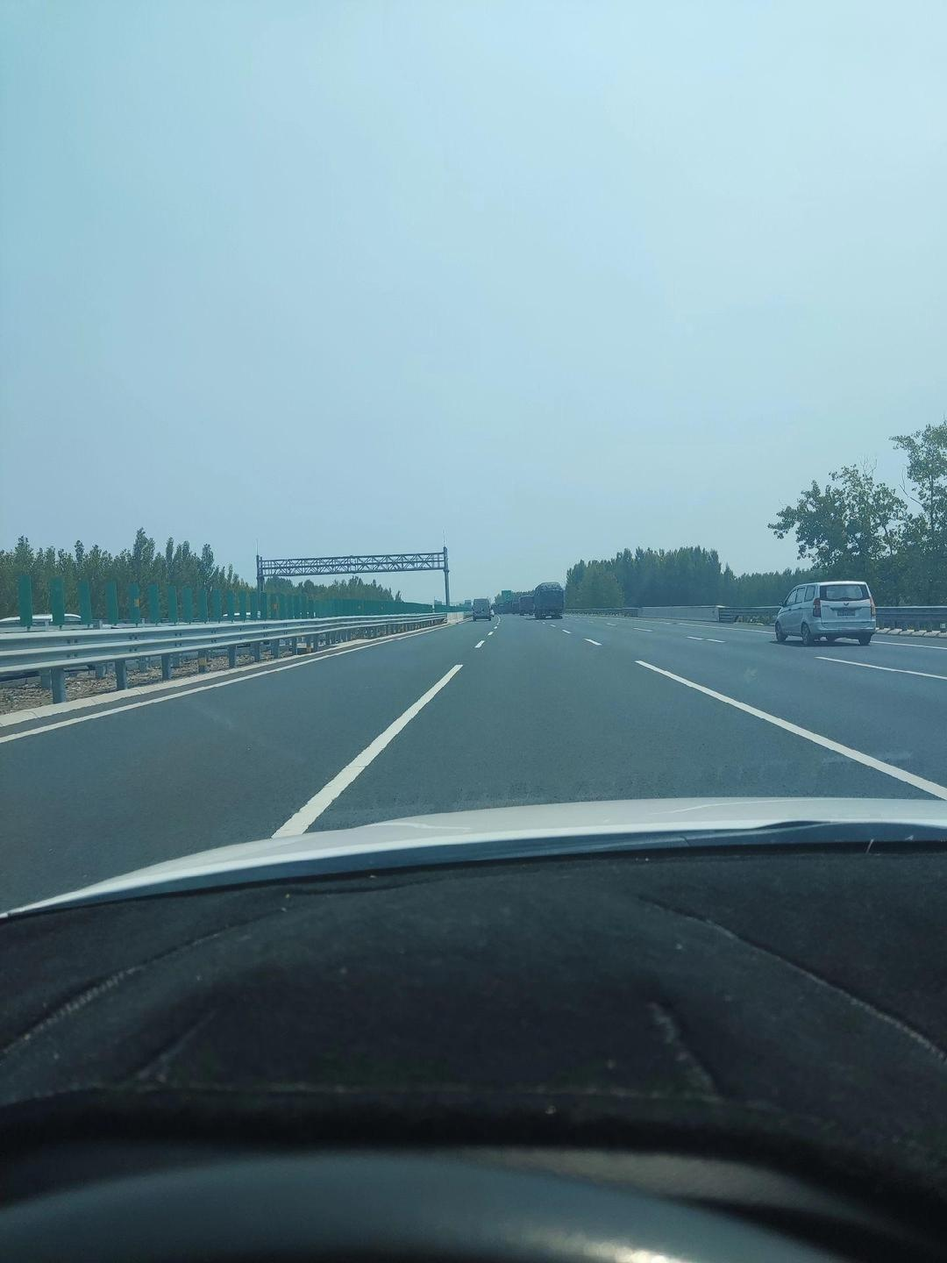lane: (634, 660, 947, 796), (264, 658, 460, 836), (5, 675, 266, 746), (819, 650, 947, 688), (585, 633, 605, 645)
